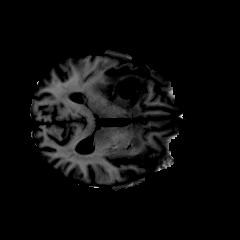glioma: (80, 64, 148, 107)
